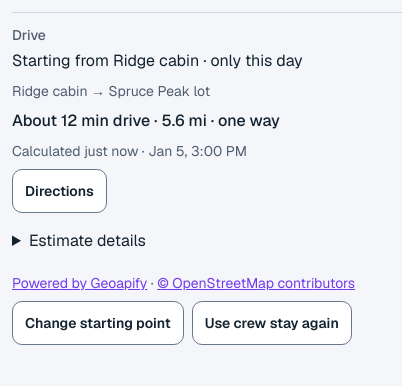
Scenario: Where the day starts › shows a day's own starting point, and Use crew stay again keeps No drive planned
Expected: the text "Starting from Ridge cabin · only this day" is shown, [12, 50, 303, 71]
Expected: the text "Ridge cabin → Spruce Peak lot" is shown, [12, 82, 210, 100]
What coordinates should you click on to do the following:
click the button "Use crew stay again"
I would click on:
 (272, 323)
Its box is [192, 301, 352, 345].
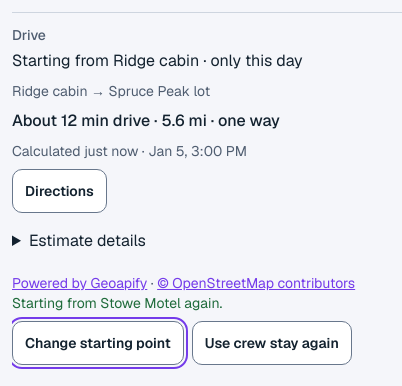
Now the text "Starting from Stowe Motel again." is shown, box [12, 294, 222, 312]
